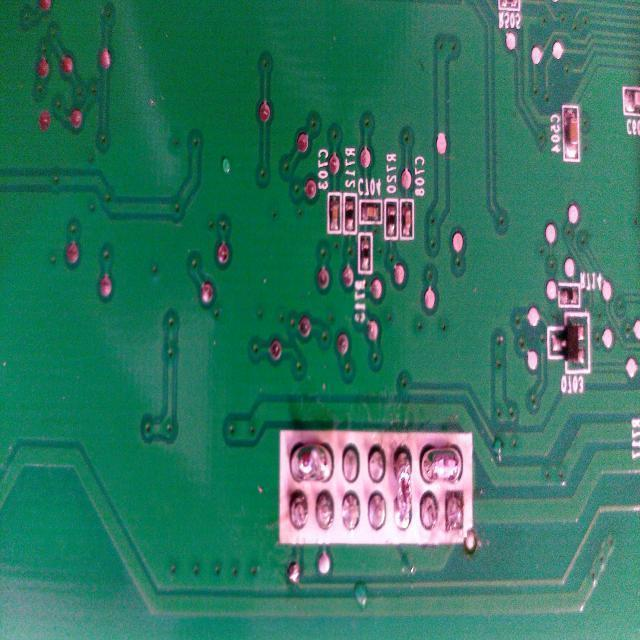Soldering shorted: (418, 435, 469, 488), (286, 437, 334, 486), (392, 444, 413, 536)
